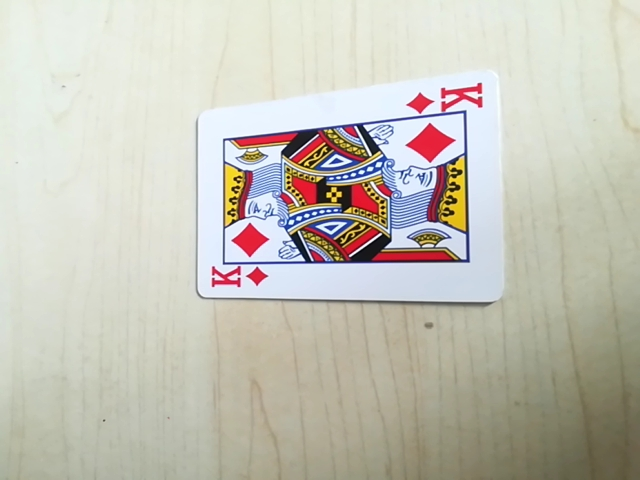fk k: (410, 78, 492, 120), (203, 261, 267, 295)
